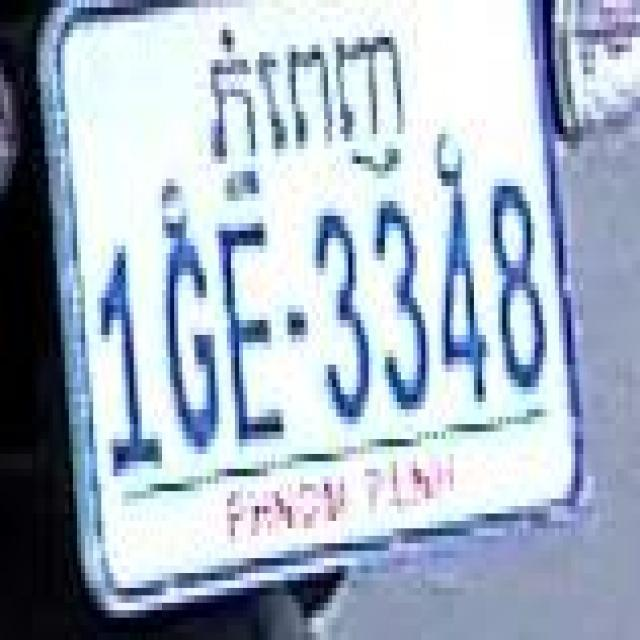Phnom_Penh: (207, 23, 400, 199)
